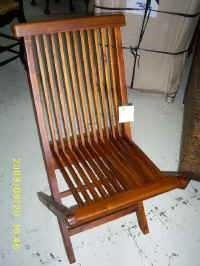obstacle: (16, 15, 189, 262)
